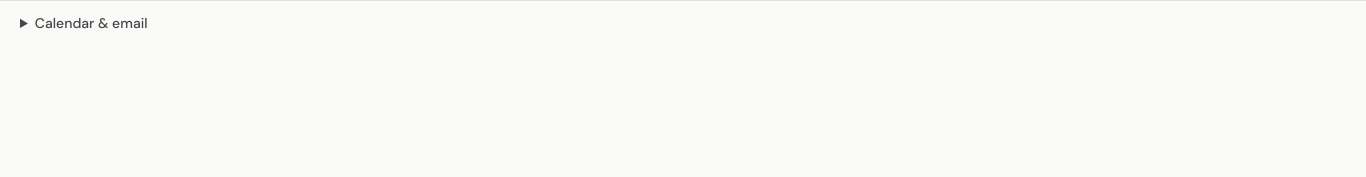
Test: shows an actionable error and re-enables both controls after a failed retry
Click the heading "Calendar & email" at (91, 23), box [35,14,148,32]
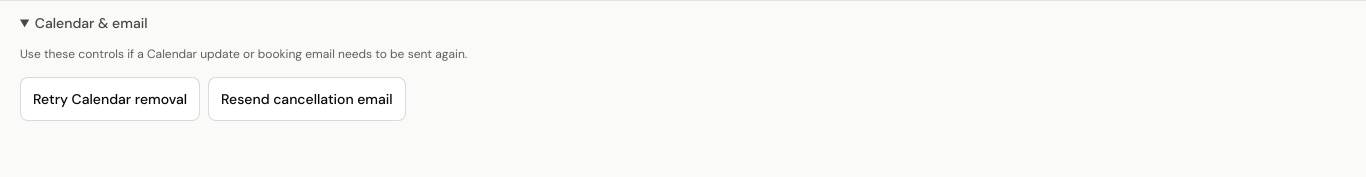
Click the button "Retry Calendar removal" at (110, 98), box [20,76,200,120]
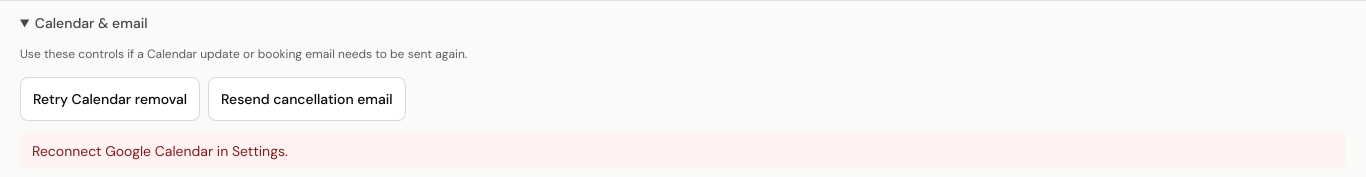
Check: the message shows "Reconnect Google Calendar", box [32,142,288,160]
